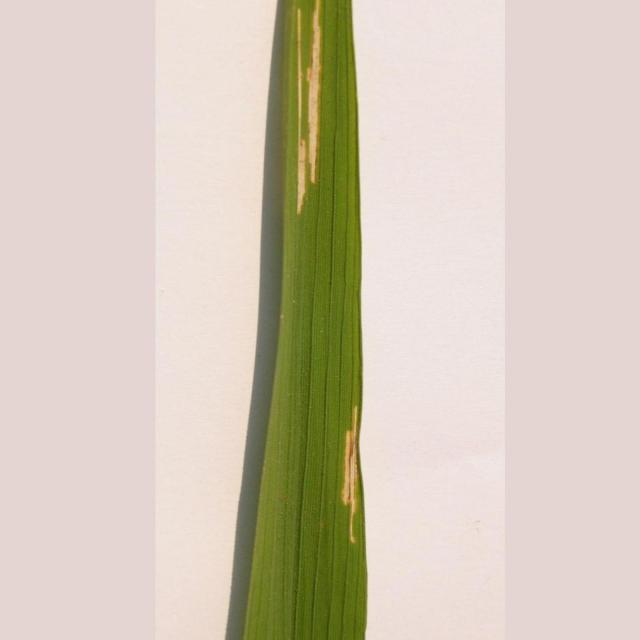leaf blight: (281, 1, 332, 233), (334, 399, 372, 547)
